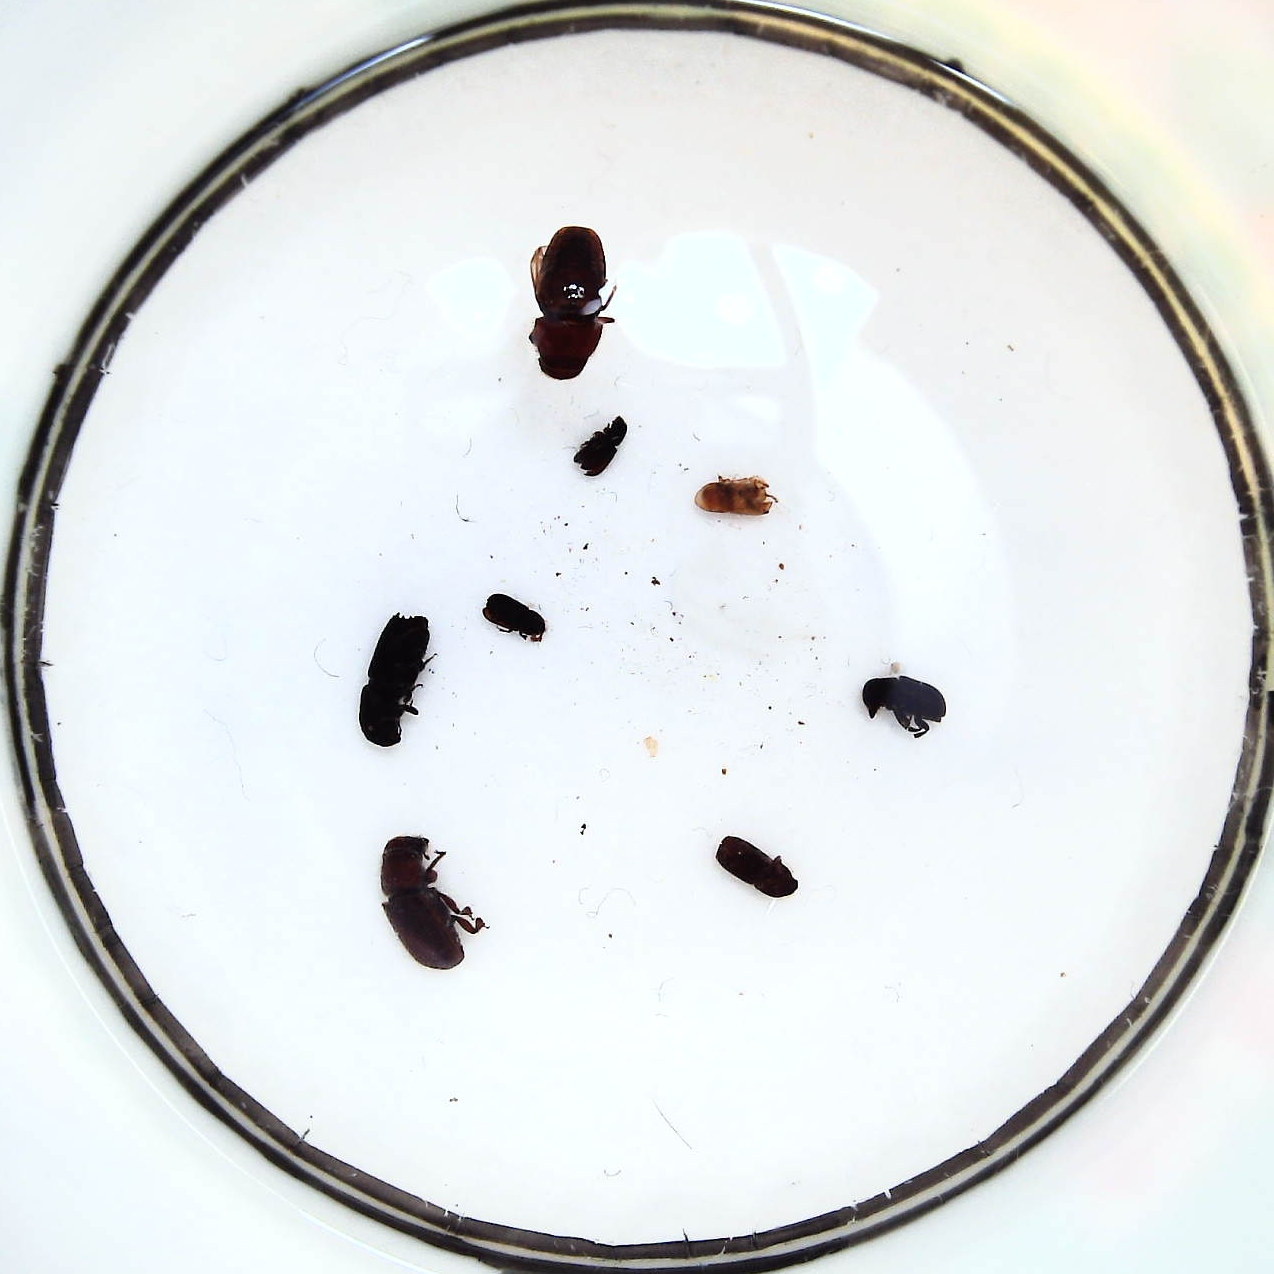Boerner: (358, 612, 427, 745)
Leconte: (528, 226, 610, 380), (381, 834, 464, 970)
acuminatus: (574, 414, 626, 477), (482, 591, 546, 640)
armandi: (862, 677, 946, 728)
coleoptera: (696, 478, 773, 517)
linnaeus: (716, 834, 799, 898)
